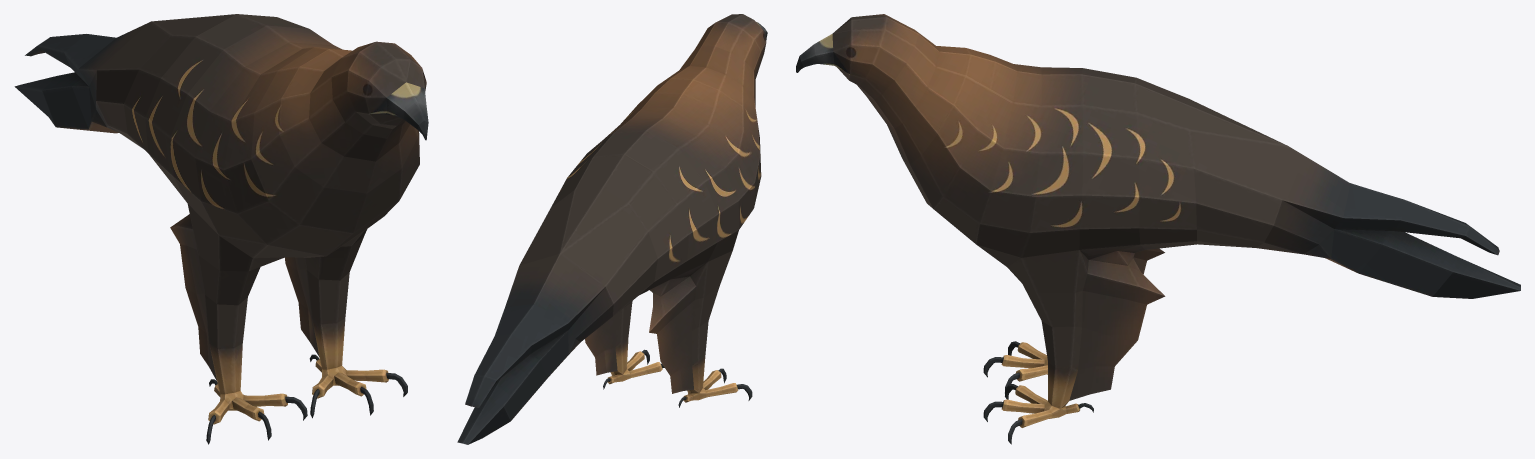
Rendered from golden-eagle-perched.glb.
3 views of the same model, side by side, from view 1: azimuth 30°, elevation 25°; view 2: azimuth 150°, elevation 25°; view 3: azimuth 270°, elevation 25° (orthographic). The views are drawn at different scales.
Visible parts, largest first — view 1: GoldenEagle_mesh2; view 2: GoldenEagle_mesh2; view 3: GoldenEagle_mesh2.
Part boxes in pixels (<box>): GoldenEagle_mesh2: <box>14,14,428,444</box>; GoldenEagle_mesh2: <box>457,14,767,444</box>; GoldenEagle_mesh2: <box>796,14,1520,444</box>.
Size of the model in its own units: 5 by 10.25 by 17.47.
Materials: 1 (1 with a texture image).
